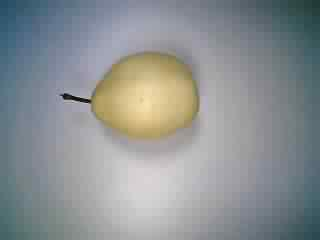pear: (46, 42, 215, 150)
